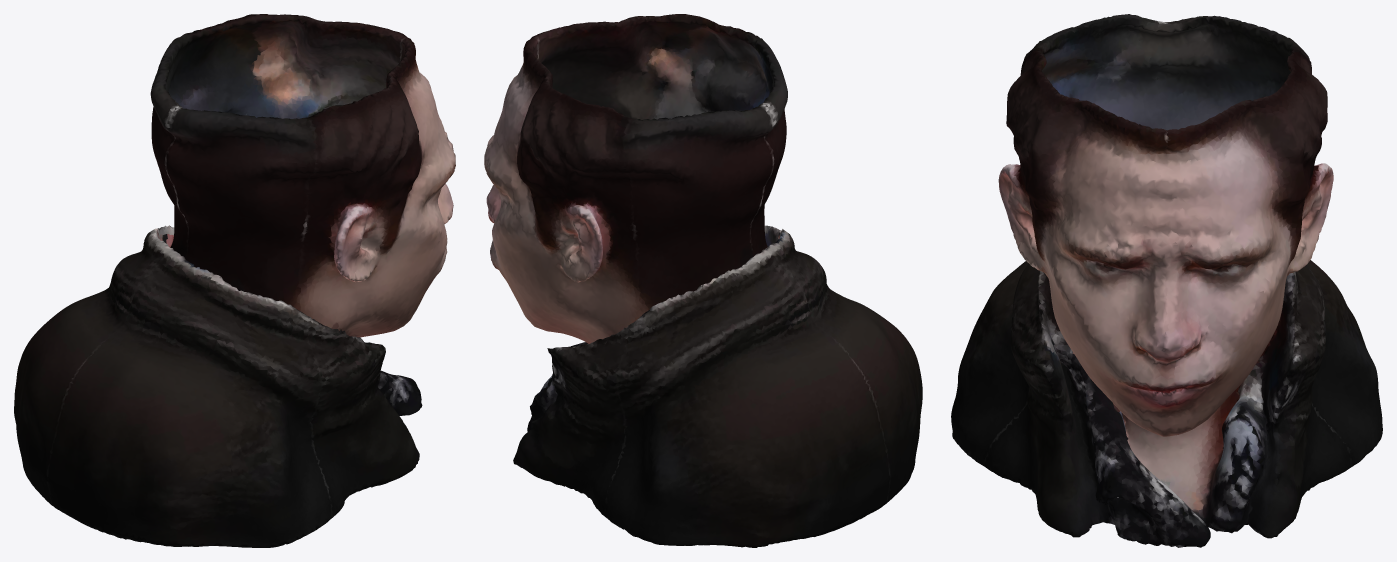
File: meme2 2.fbx
3 renders of one model, left to right at view 1: azimuth 30°, elevation 25°; view 2: azimuth 150°, elevation 25°; view 3: azimuth 270°, elevation 25°, orthographic. The views are drawn at different scales.
Parts seen in each view (by area): view 1: tripo_node_a42911c0-4e22-4921-aab6-d7b661759c02; view 2: tripo_node_a42911c0-4e22-4921-aab6-d7b661759c02; view 3: tripo_node_a42911c0-4e22-4921-aab6-d7b661759c02.
Boxes of the visible parts, box(x1,y1,x2,y2) form: tripo_node_a42911c0-4e22-4921-aab6-d7b661759c02: box(14, 14, 455, 547); tripo_node_a42911c0-4e22-4921-aab6-d7b661759c02: box(484, 14, 922, 547); tripo_node_a42911c0-4e22-4921-aab6-d7b661759c02: box(951, 14, 1382, 547).
Bounding box in the file's own units: 99.86 × 92.38 × 84.07.
Materials: 1 (1 with a texture image).
